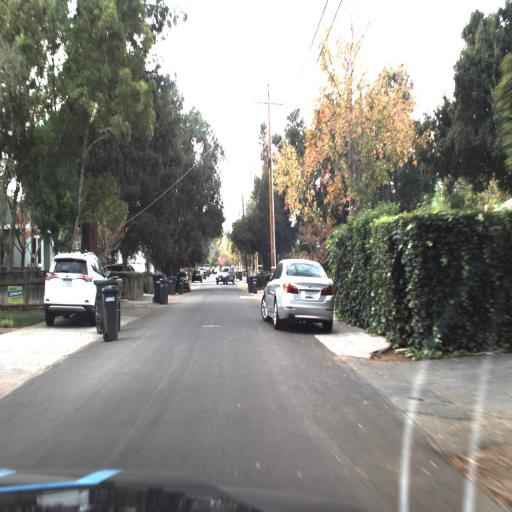car: (260, 256, 337, 331), (41, 244, 113, 324), (41, 250, 101, 330), (98, 255, 137, 283), (214, 266, 236, 285), (176, 269, 190, 288), (192, 266, 203, 282), (252, 260, 263, 274)
